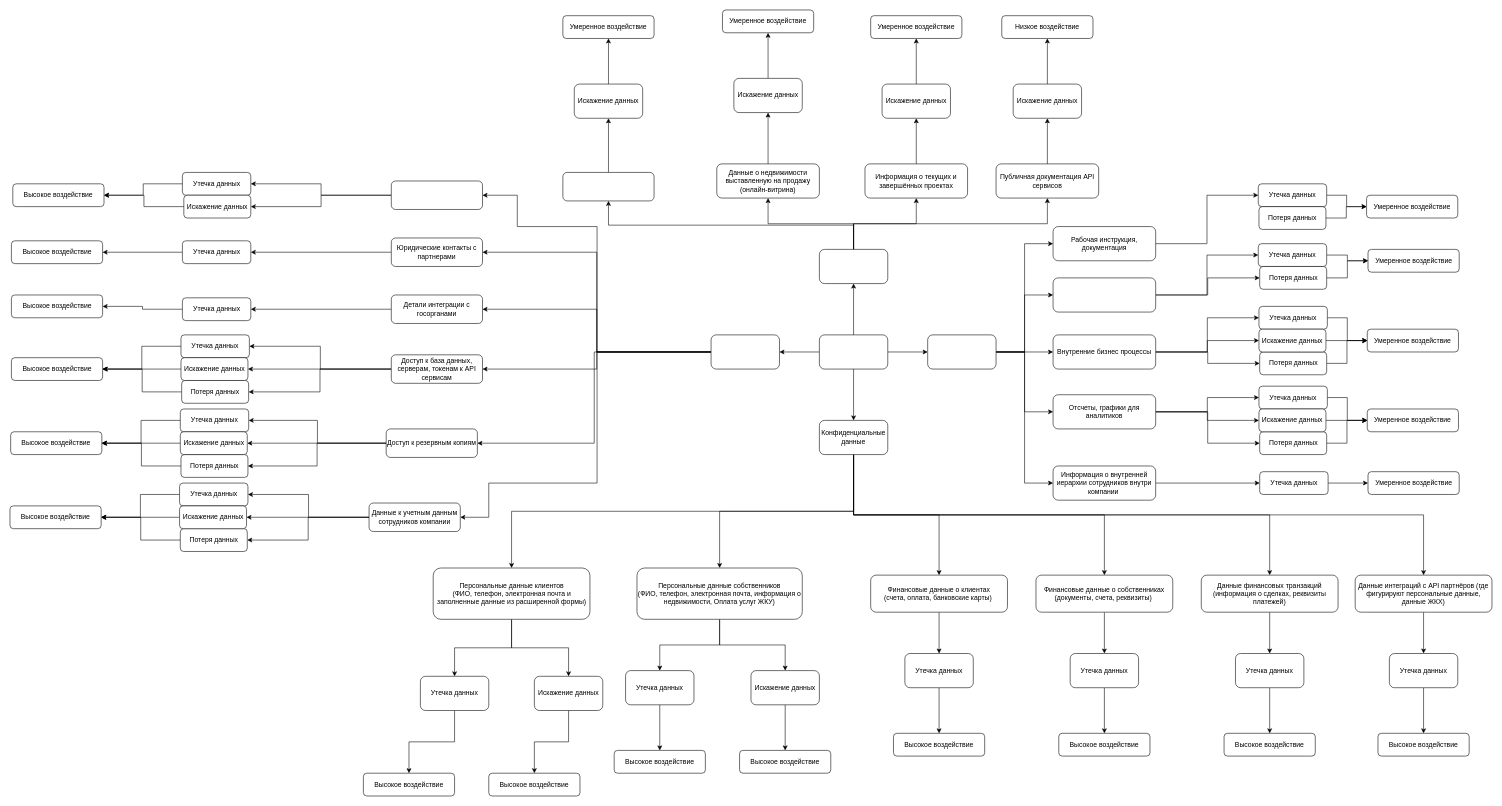
The diagram is 1502 pixels wide and 806 high, and some of its shapes have lost their labels. The centre of each missing label's shape, as x and y in pixels:
"Безопасность данных" belongs at point 853,351.
"Бизнес стратегия компании" belongs at point 437,194.
"Внутренние данные" belongs at point 961,351.
"Логи приложений, и прочая информация о работе сервисов" belongs at point 1104,294.
"Описание компании и ее услуг" belongs at point 608,186.
"Публичные данные" belongs at point 853,266.
"Секретные данные" belongs at point 745,351.
